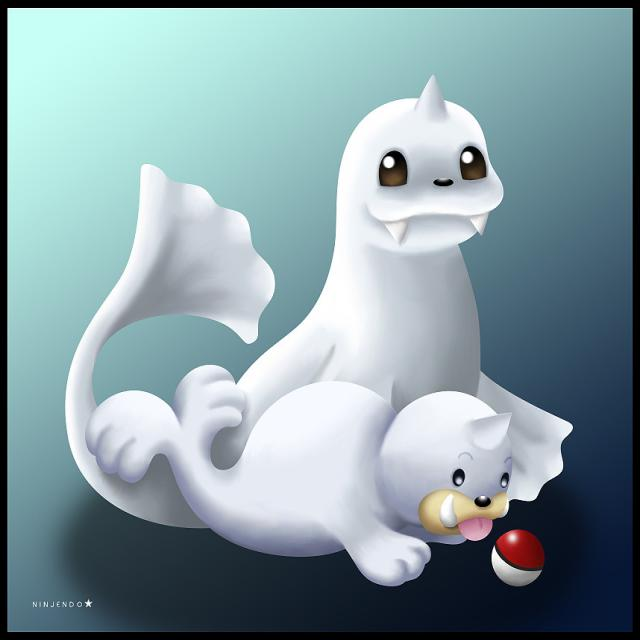Dewgong: (65, 75, 493, 416)
Seel: (93, 373, 520, 545)
